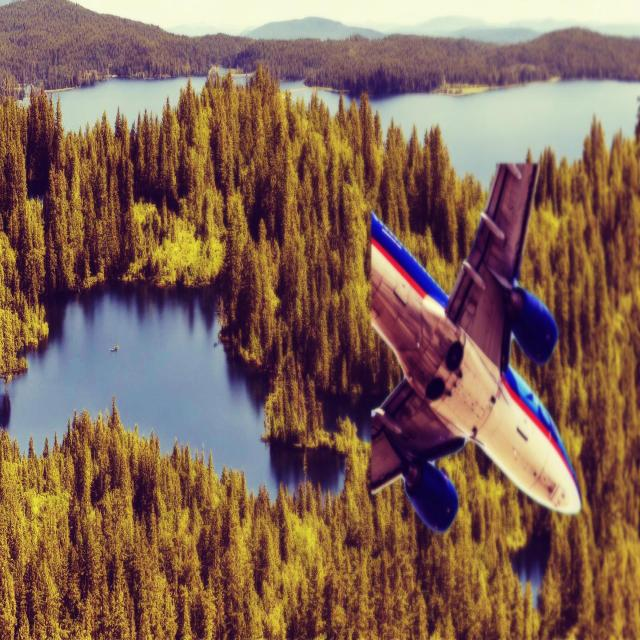airplane: (367, 160, 582, 535)
